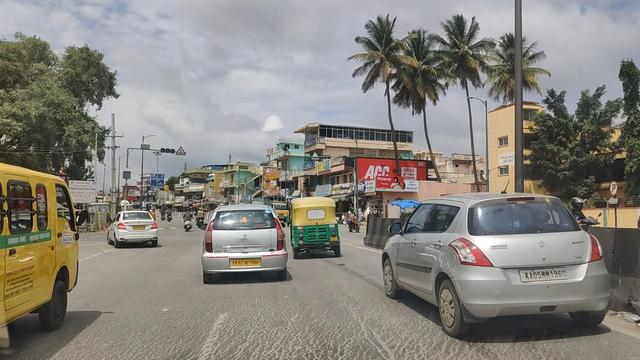LMV: (376, 178, 616, 347), (0, 134, 83, 360), (188, 202, 306, 296), (285, 191, 351, 268), (105, 203, 162, 255)
